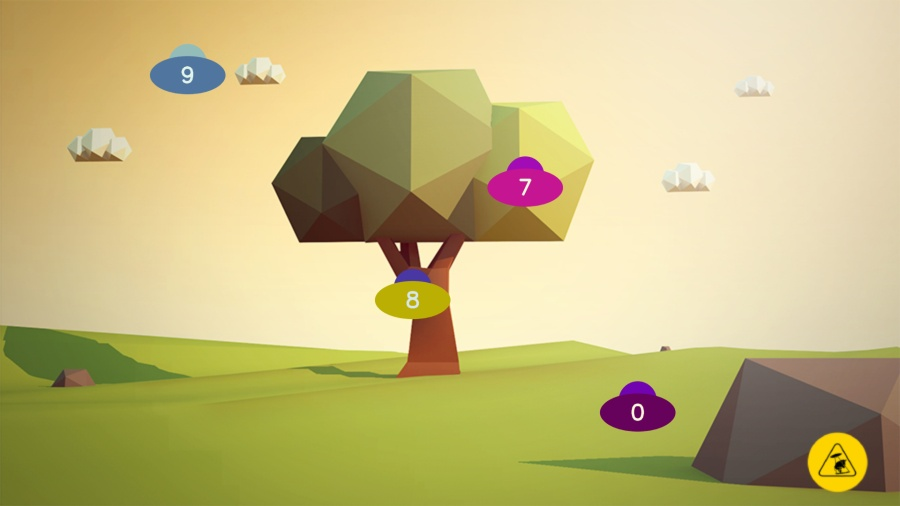ufo: (599, 380, 677, 433), (487, 155, 564, 208), (374, 269, 451, 320), (149, 44, 226, 95)
